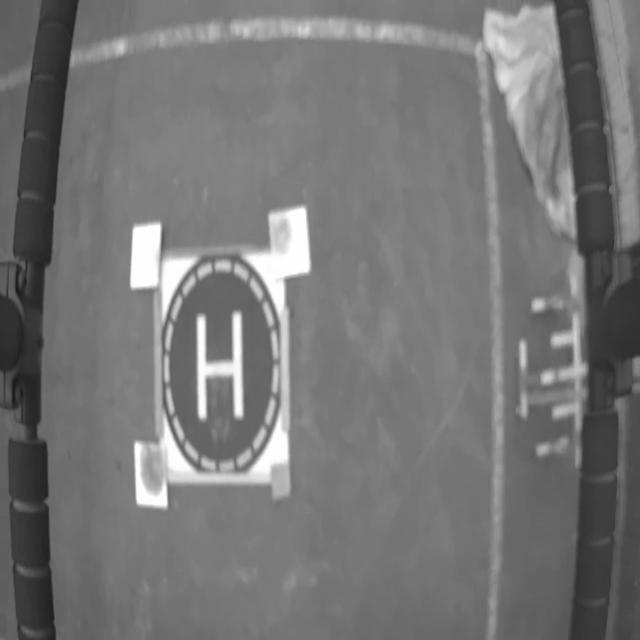Helipad: (196, 312, 244, 424)
